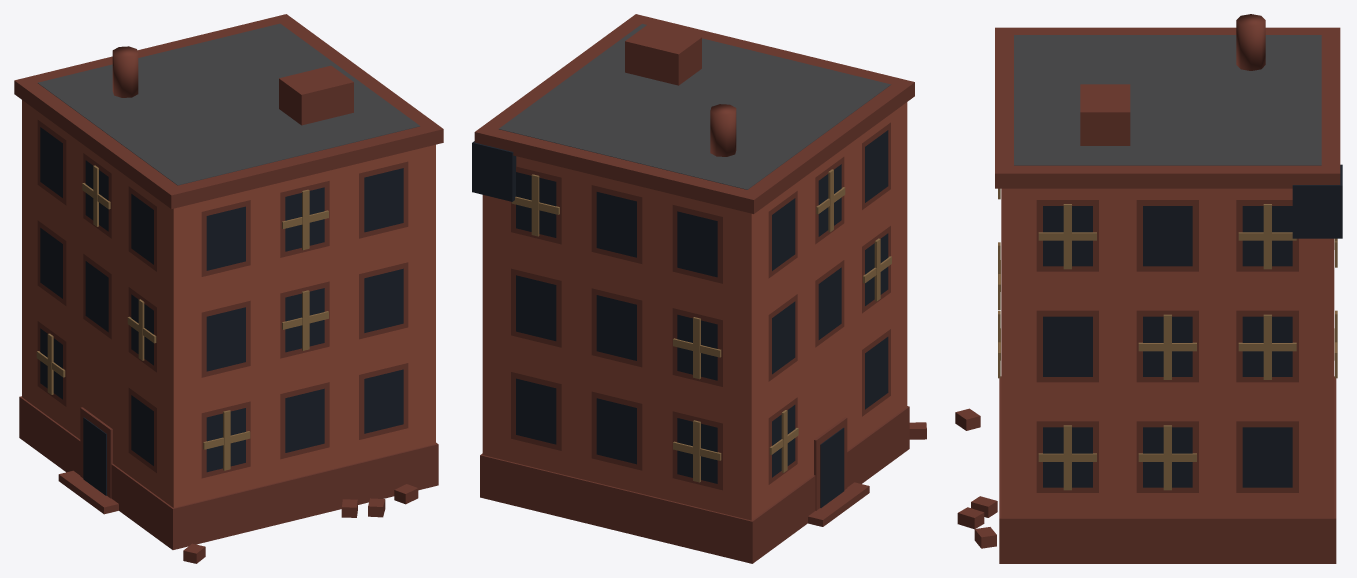
File: building_a.glb
3 renders of one model, left to right at view 1: azimuth 30°, elevation 25°; view 2: azimuth 150°, elevation 25°; view 3: azimuth 270°, elevation 25°, orthographic. The views are drawn at different scales.
Parts seen in each view (by area): view 1: BuildingA; view 2: BuildingA; view 3: BuildingA.
Boxes of the visible parts, <box> form: BuildingA: <box>14,14,443,563</box>; BuildingA: <box>472,14,926,563</box>; BuildingA: <box>955,14,1342,563</box>.
Size of the model in its own units: 8.7 by 11.6 by 9.3.
